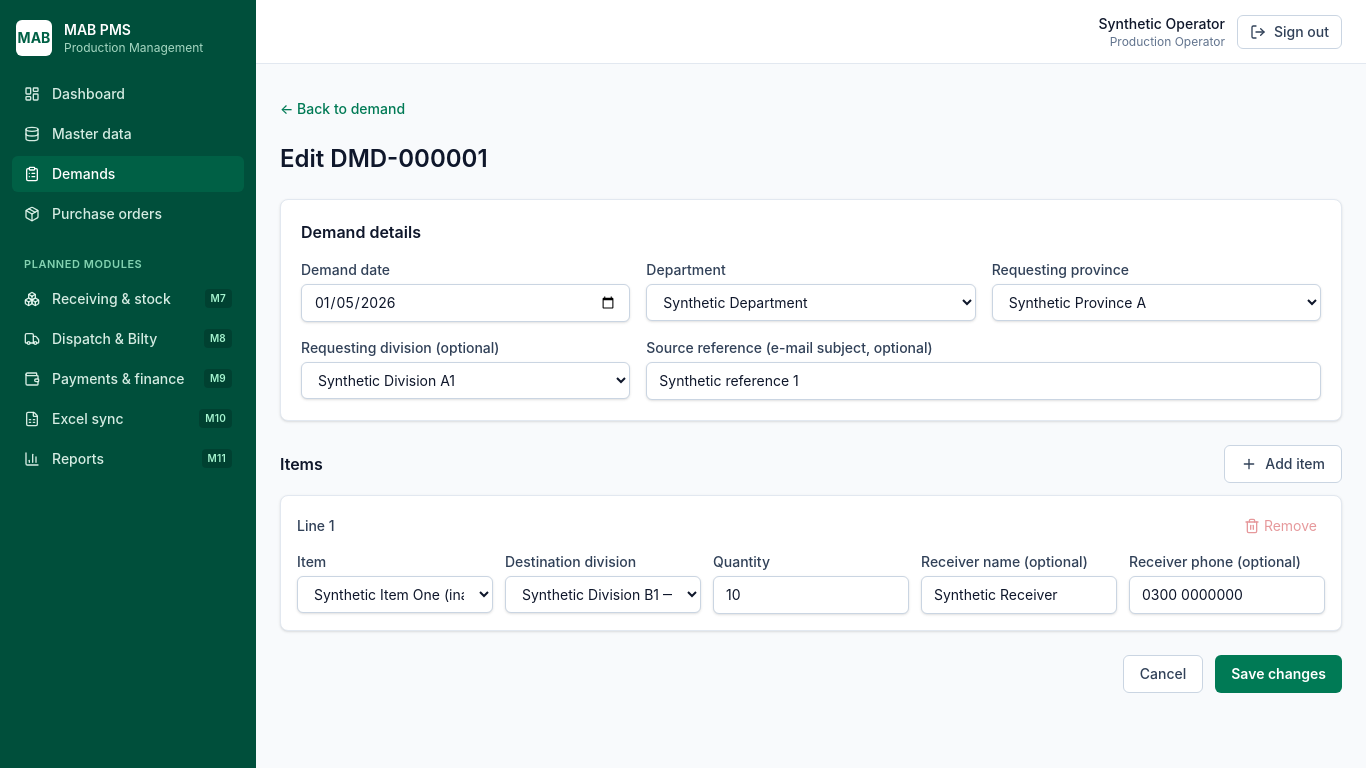
it: Demand form — edit › keeps a deactivated item selectable and sends the rev and line ids
The image size is (1366, 768).
Expected: the heading "Edit DMD-000001" is shown, [280,144,488,173]
Step 1. Replace the text in the field labelled "Quantity" with "25" → (811, 595), box [713,576,909,614]
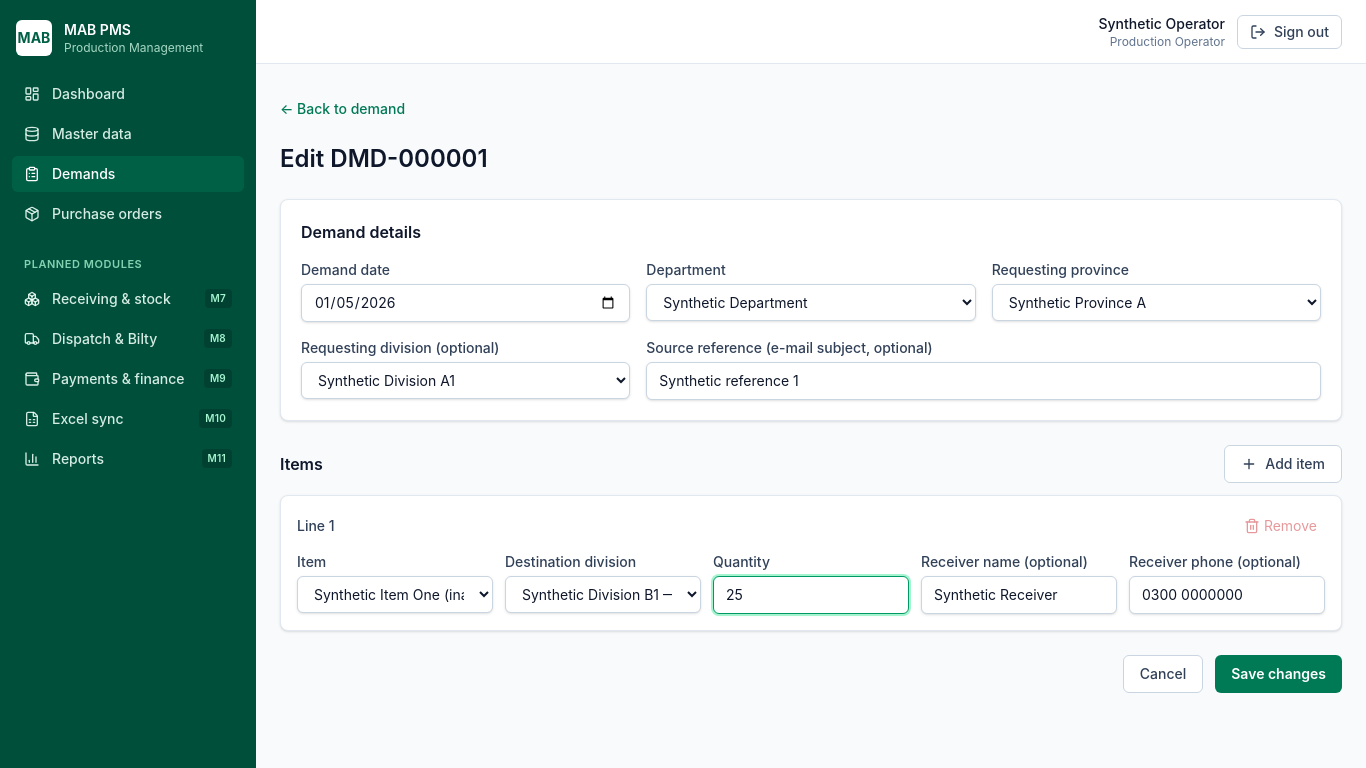
Step 2. Click the button "Save changes" → (1279, 674), box [1215,655,1342,693]
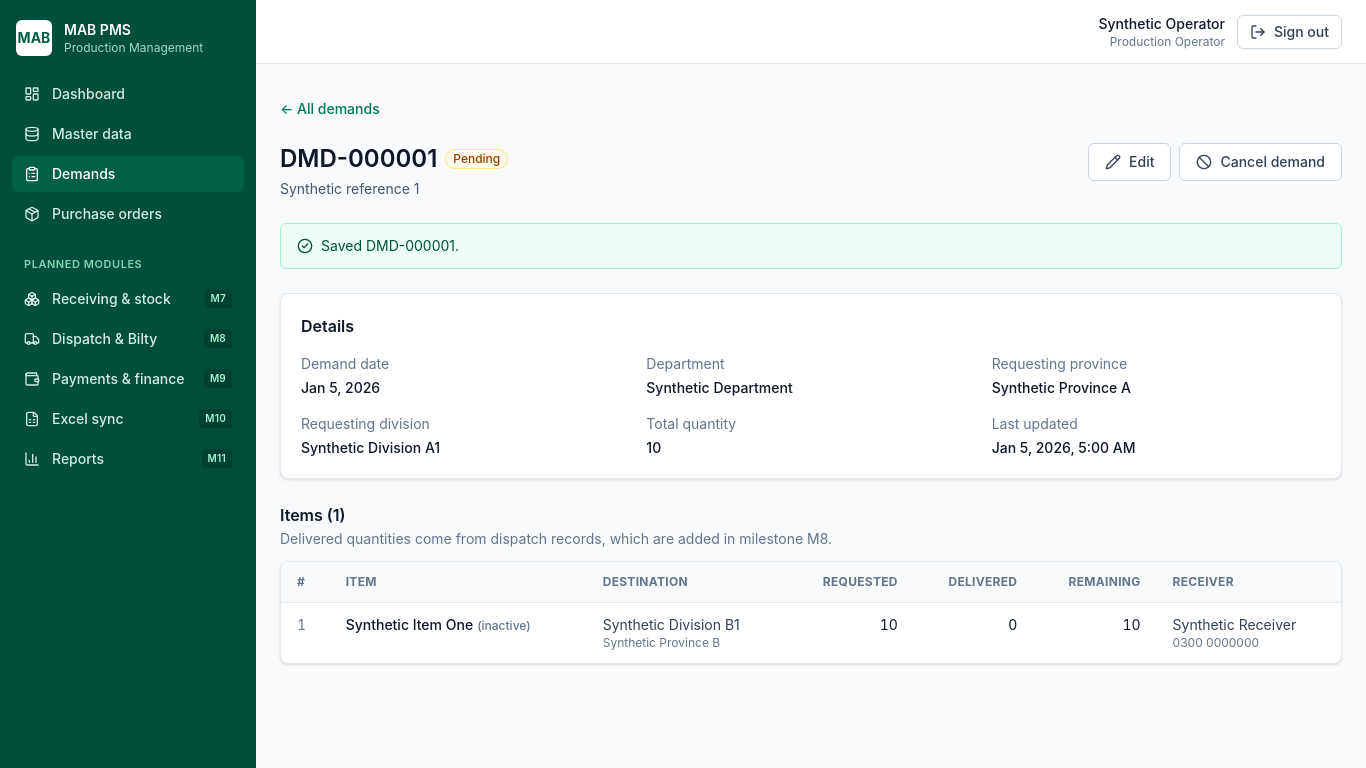
Expected: the text "Saved DMD-000001." is shown, [321,236,459,256]
